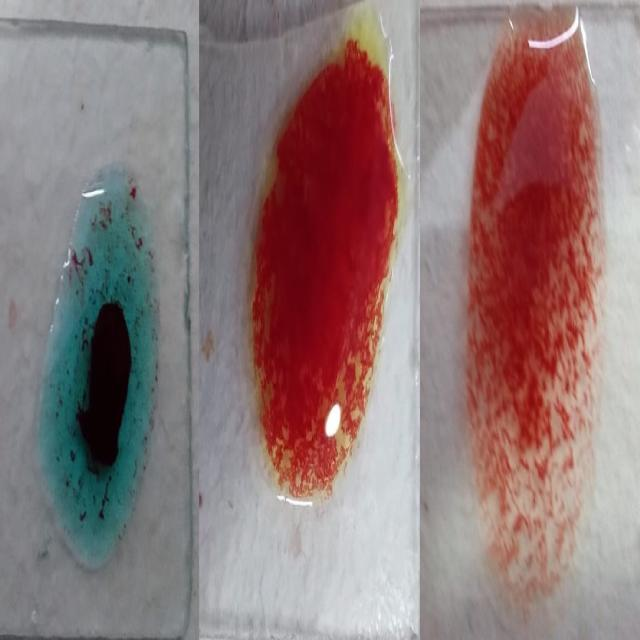A: (44, 180, 155, 562)
B: (248, 19, 398, 502)
D: (474, 27, 599, 606)
